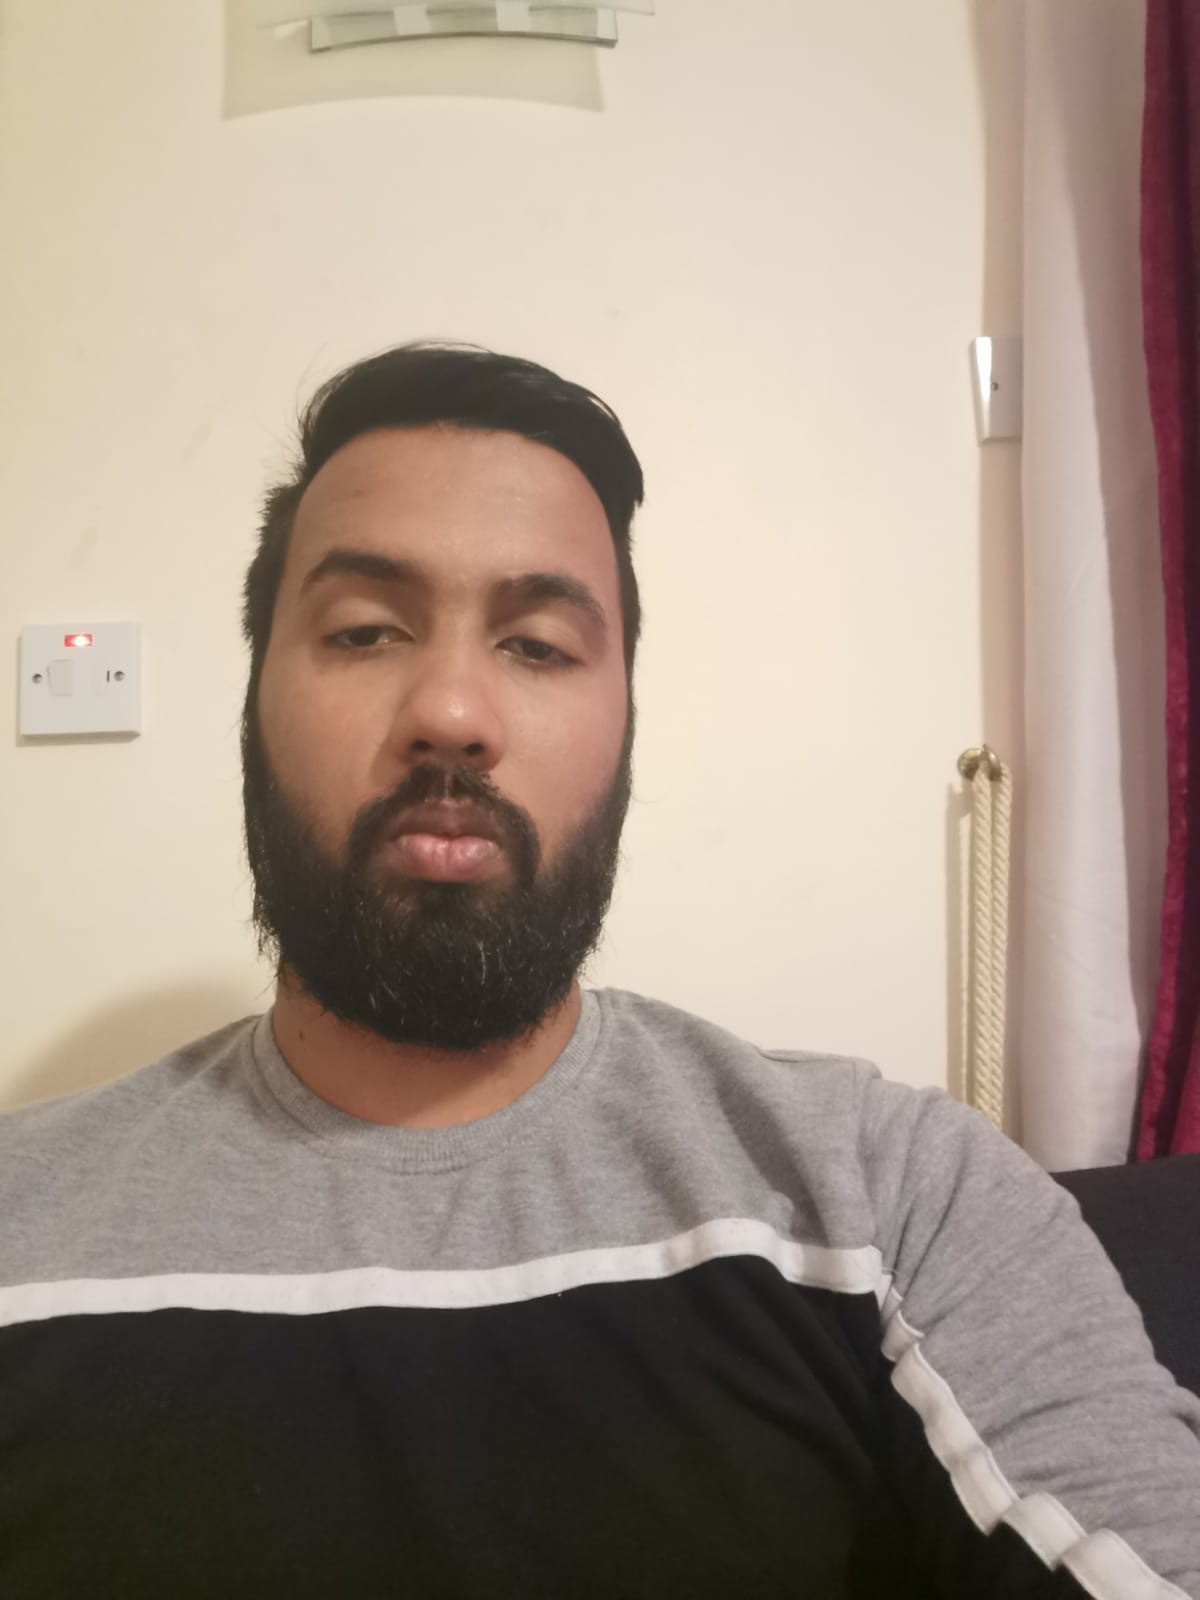Half Asleep: (294, 595, 608, 697)
